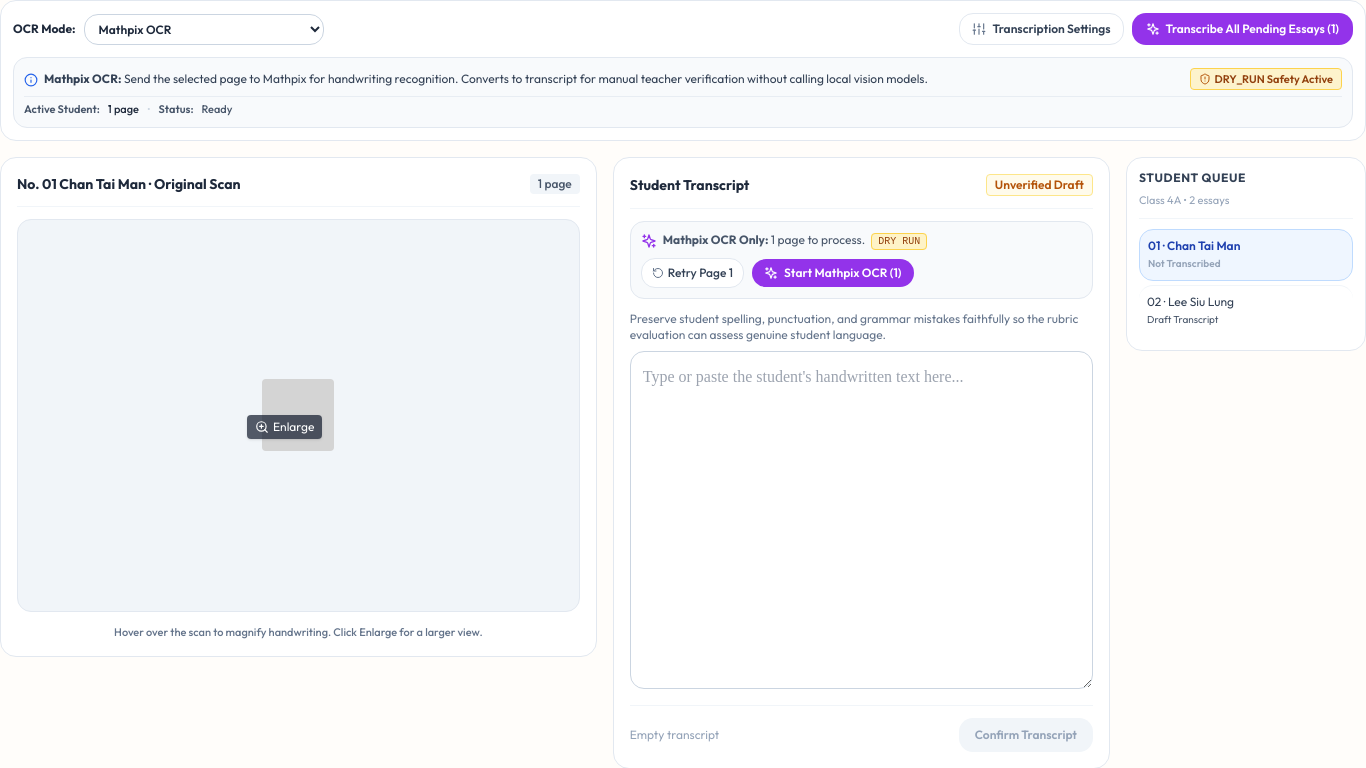
Test: Step 4: Verify Script - Mathpix OCR & Mode Selector Requirements › 2. Mode A: Mathpix OCR Only › executes Mathpix OCR and NEVER calls Qwen VL (port 18088)
The image size is (1366, 768).
Expected: the dropdown labelled "OCR Mode:" shows "Mathpix OCR", [84,14,324,44]
# Click explicit Start Mathpix OCR button
What coordinates should you click on to do the following:
click the button "Start Mathpix OCR (1)"
I would click on:
 (833, 273)
Its box is [752,259,914,287].
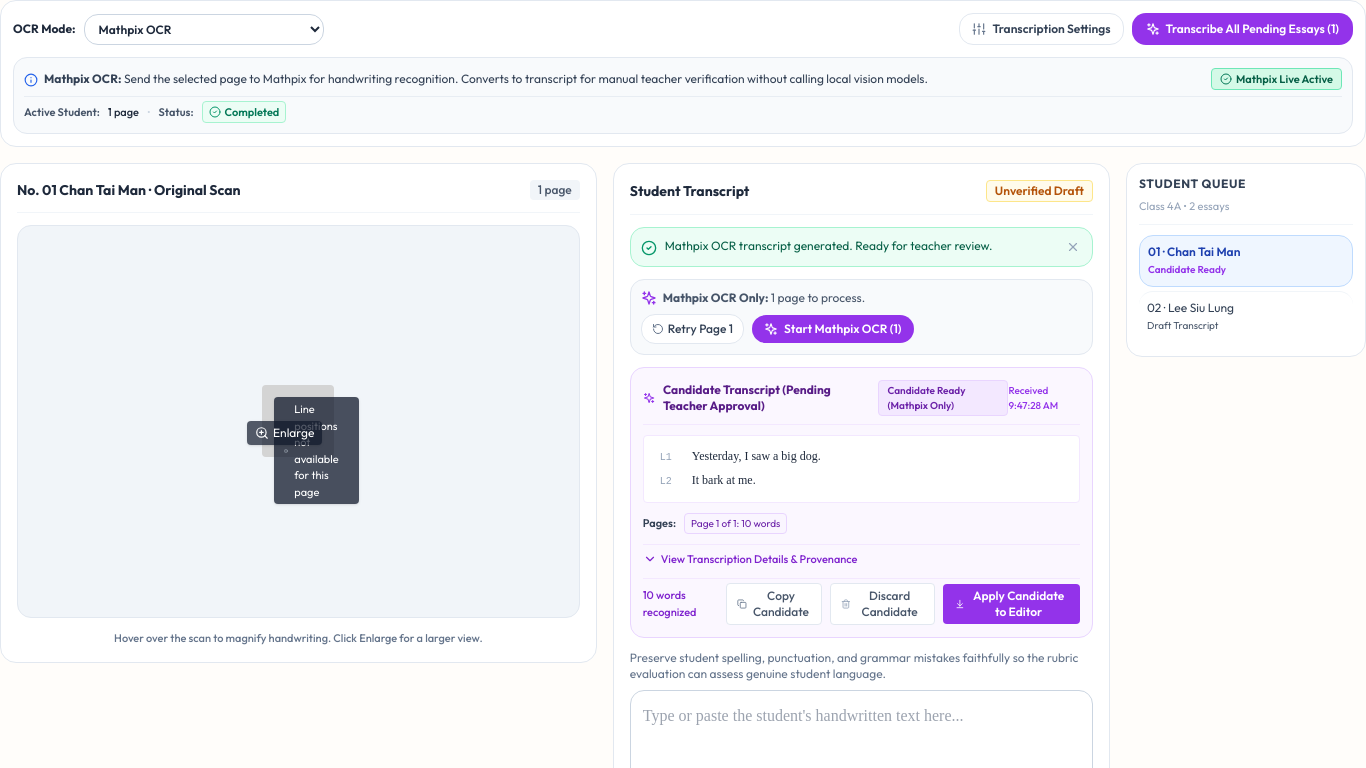
Now the text "Yesterday, I saw a big dog." is shown, box [692,449,821,463]
Now the text "It bark at me." is shown, box [692,473,756,487]
Now the text "Candidate Ready (Mathpix Only)" is shown, box [878,380,1008,416]
